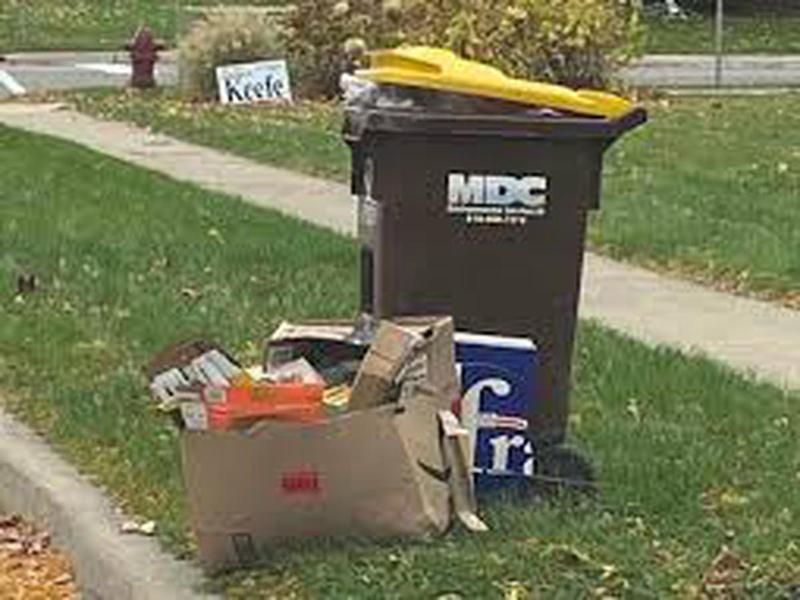cardboard: (150, 313, 499, 571)
